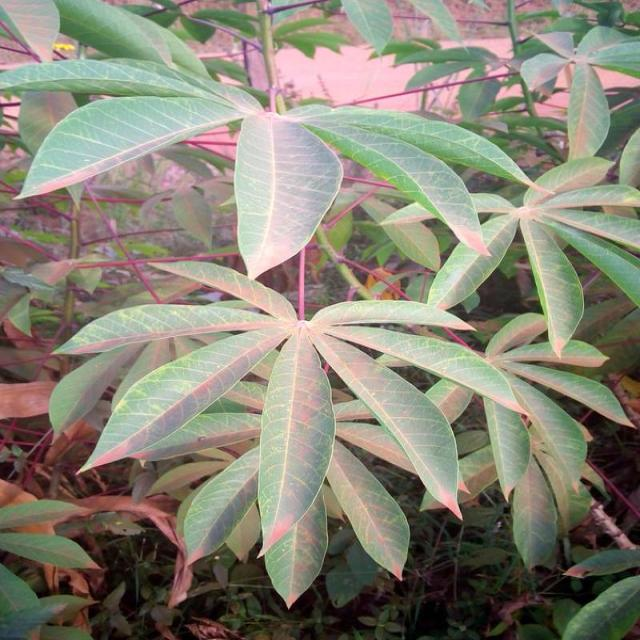cassava leaf: (2, 4, 640, 614), (233, 109, 344, 280)
